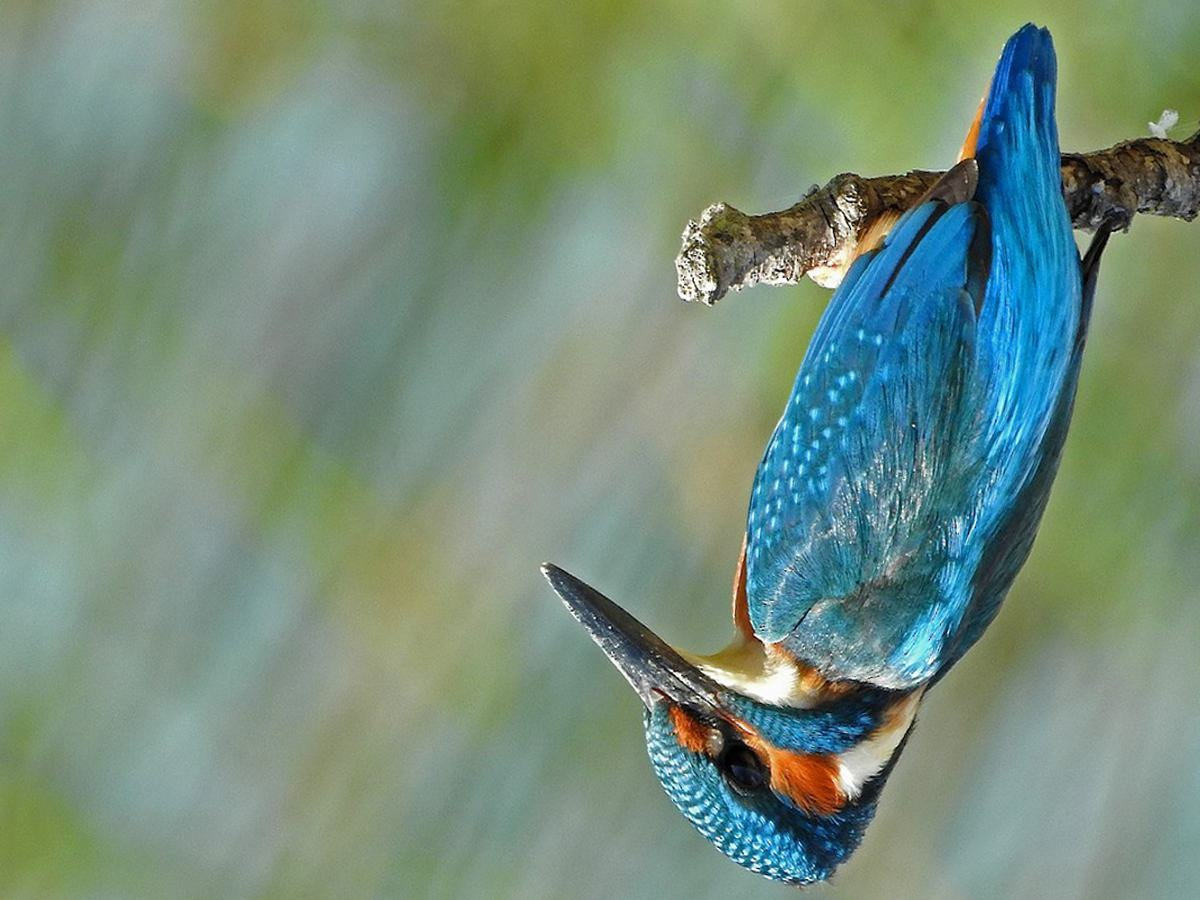kingfisher: (532, 37, 1083, 879)
